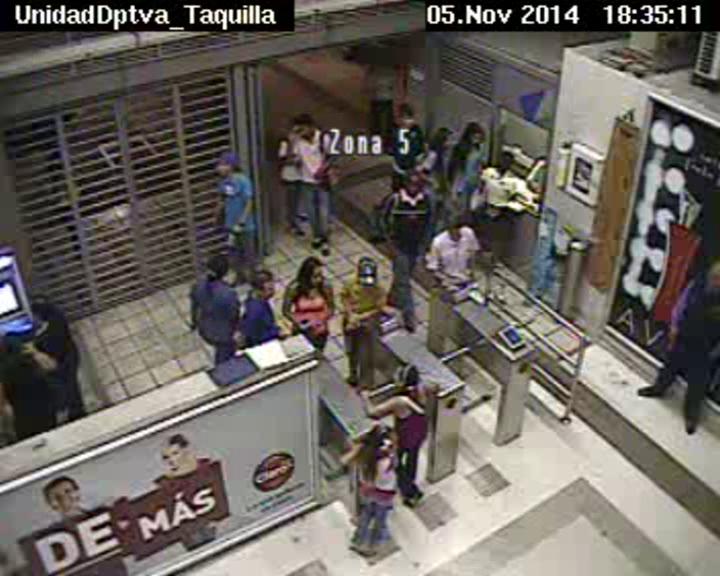person: (298, 257, 325, 289), (214, 150, 242, 180), (354, 257, 382, 286), (204, 251, 229, 281), (290, 113, 316, 141), (1, 332, 27, 359), (248, 269, 273, 297), (461, 122, 486, 149), (30, 291, 53, 319), (431, 123, 455, 149), (698, 262, 720, 290), (444, 211, 467, 236), (403, 172, 426, 196), (496, 149, 519, 173), (367, 425, 389, 450), (397, 363, 419, 387), (396, 103, 416, 128), (373, 44, 392, 65)
